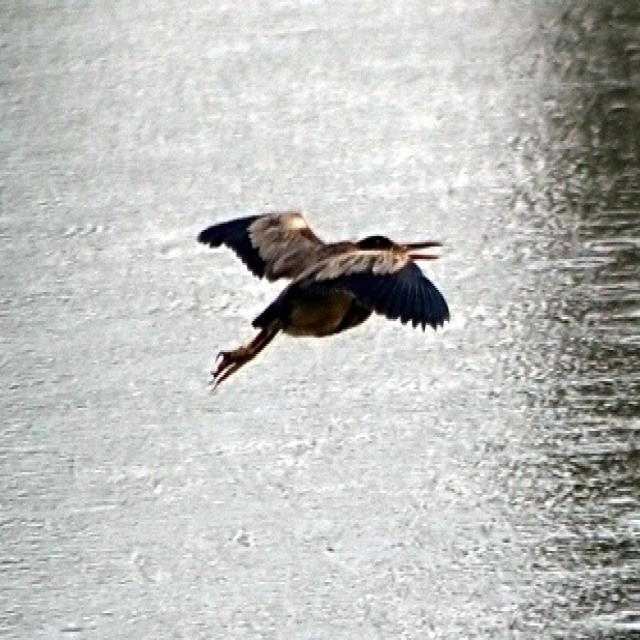bird: (201, 202, 454, 388)
